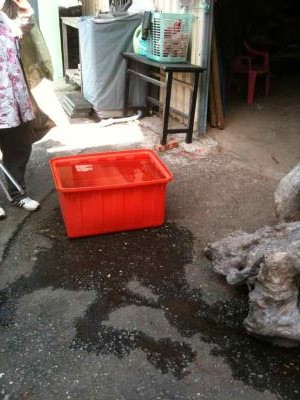box: (40, 145, 180, 242)
